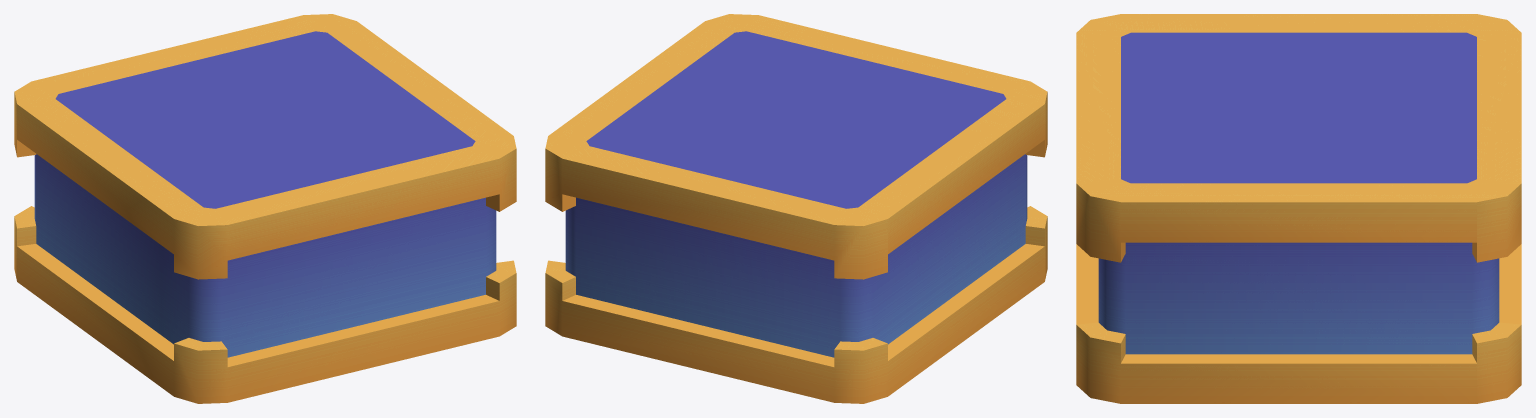
File: block-moving-blue.glb
The picture shows the model from 3 angles, left to right: view 1: azimuth 30°, elevation 25°; view 2: azimuth 150°, elevation 25°; view 3: azimuth 270°, elevation 25°; orthographic projection. The views are drawn at different scales.
Parts seen in each view (by area): view 1: block-moving-blue; view 2: block-moving-blue; view 3: block-moving-blue.
Part boxes in pixels (left/top/right/bottom): block-moving-blue: left=14, top=14, right=516, bottom=403; block-moving-blue: left=545, top=14, right=1047, bottom=403; block-moving-blue: left=1076, top=14, right=1521, bottom=403.
Bounding box in the file's own units: 1 × 0.5 × 1.
1 material, 1 textured.
